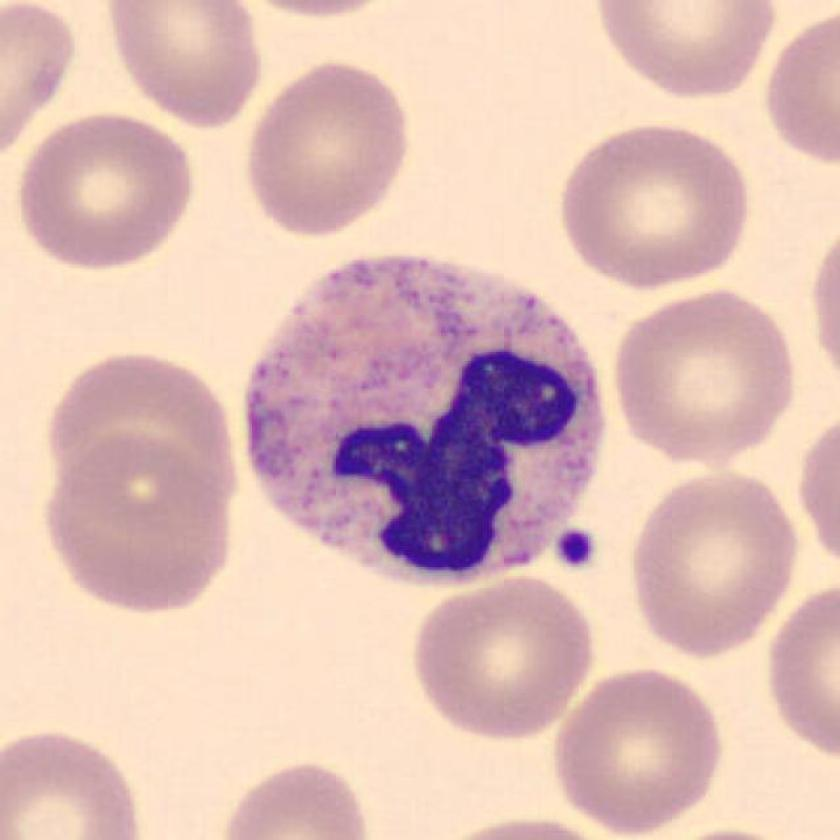neutrophil: (244, 254, 606, 580)
